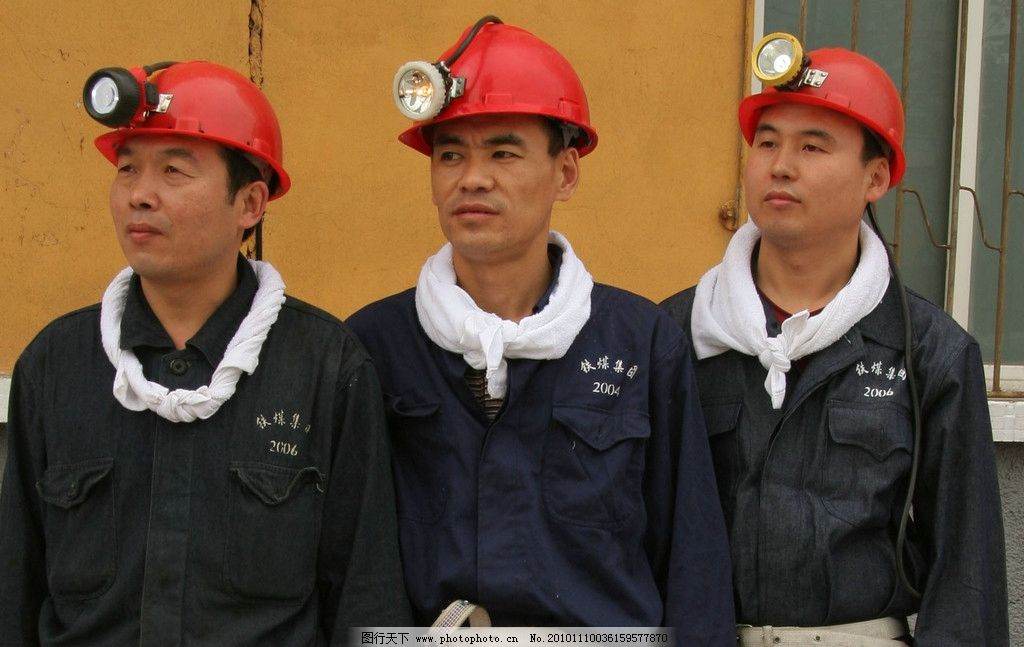helmet: (70, 49, 319, 294), (381, 29, 616, 270), (717, 26, 918, 248)
